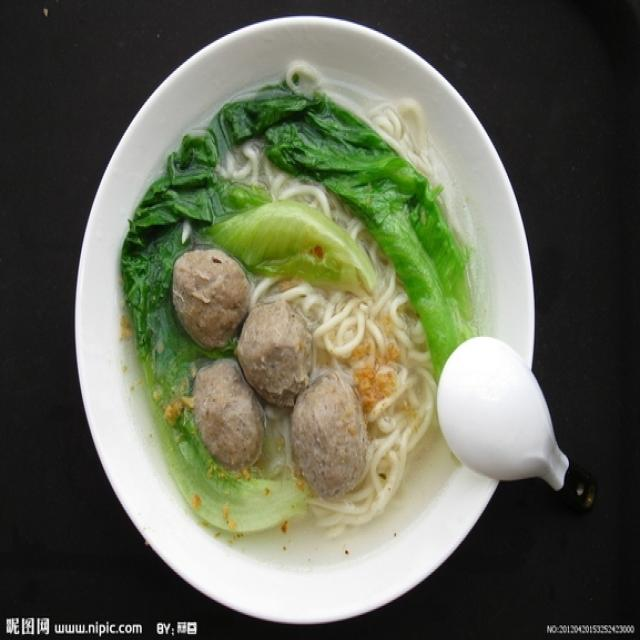面条主食: (50, 11, 546, 586)
